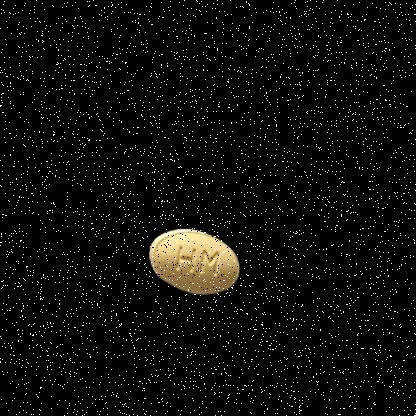tovast10: (117, 200, 267, 327)
